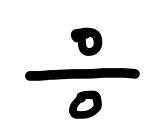div: (25, 27, 140, 120)
